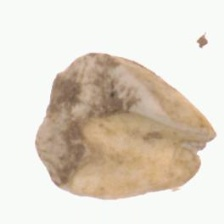L1: (33, 76, 85, 186), (181, 128, 217, 174)
L2: (34, 52, 217, 200)
